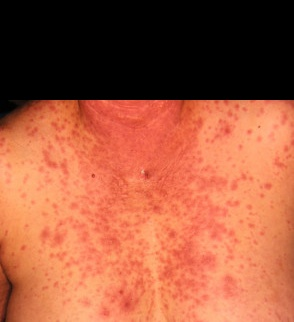SJS-TEN: (31, 90, 270, 322)
